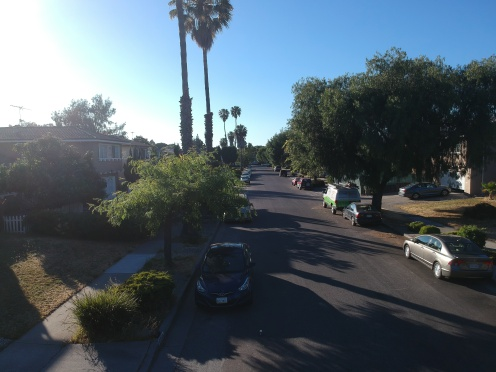can: (256, 327, 266, 336)
